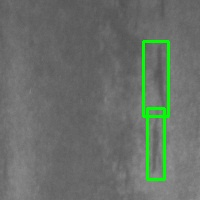inclusion: (143, 41, 168, 116), (147, 108, 164, 179)
